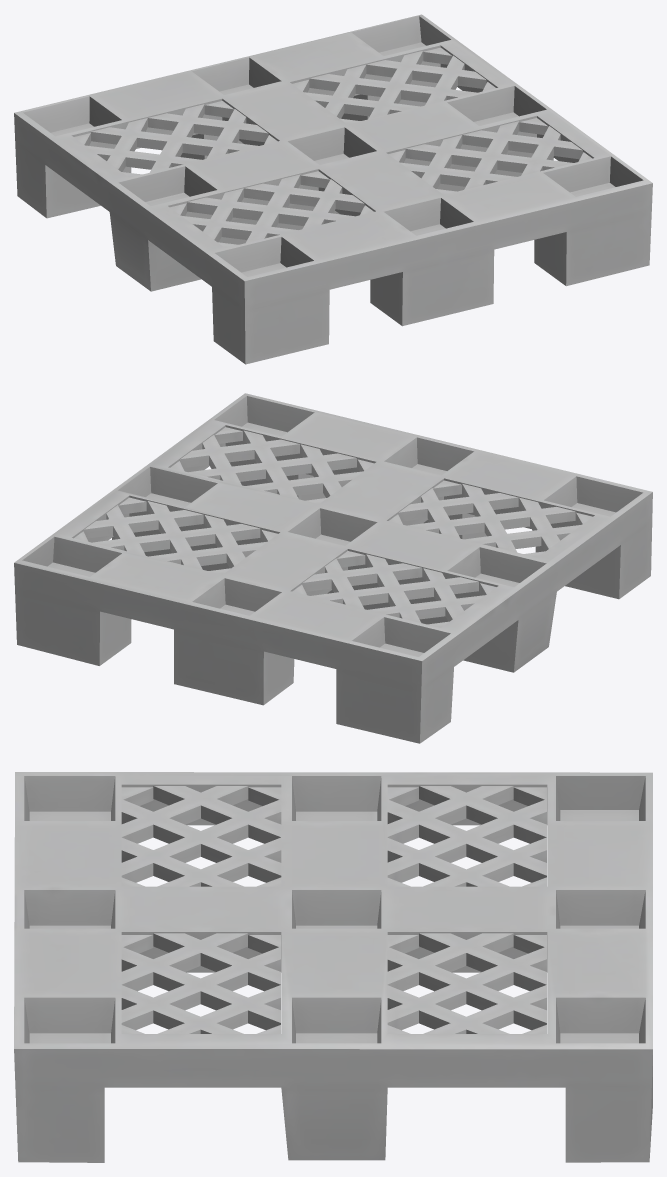
File: Pfb_PlasticPallet__2.fbx
3 renders of one model, top to bottom at view 1: azimuth 30°, elevation 25°; view 2: azimuth 150°, elevation 25°; view 3: azimuth 270°, elevation 25°, orthographic. The views are drawn at different scales.
Visible parts, largest first — view 1: Mat_PlasticPallet_01_2 1; view 2: Mat_PlasticPallet_01_2 1; view 3: Mat_PlasticPallet_01_2 1.
Part boxes in pixels (left/top/right/bottom): Mat_PlasticPallet_01_2 1: left=14, top=14, right=652, bottom=364; Mat_PlasticPallet_01_2 1: left=14, top=393, right=652, bottom=743; Mat_PlasticPallet_01_2 1: left=14, top=772, right=652, bottom=1162.
Bounding box in the file's own units: 1.54 × 0.3031 × 1.51.
1 material, 1 textured.
